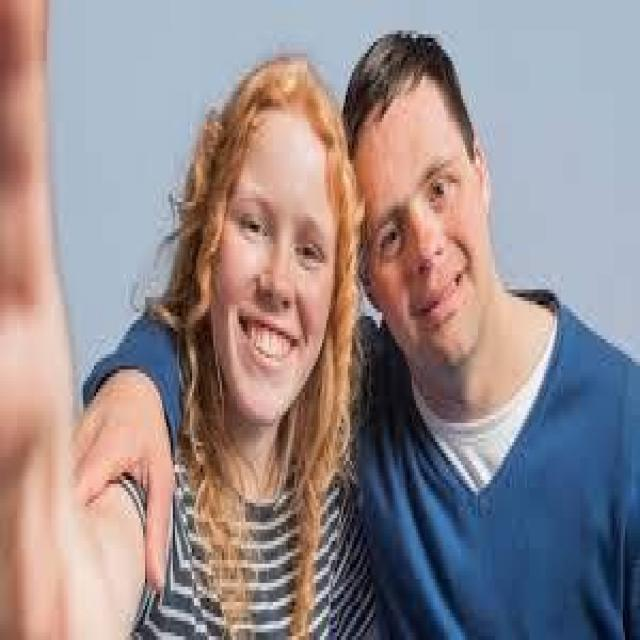person: (28, 61, 375, 636), (328, 34, 636, 636)
